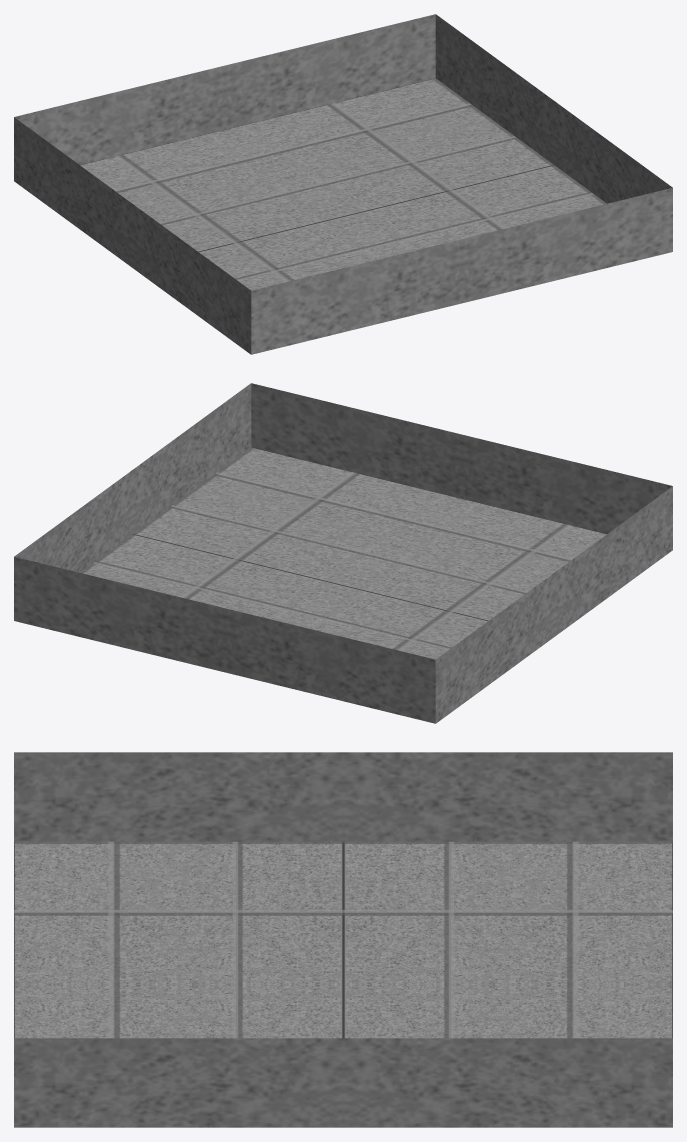
The model's file is diban.FBX.
3 renders of one model, top to bottom at view 1: azimuth 30°, elevation 25°; view 2: azimuth 150°, elevation 25°; view 3: azimuth 270°, elevation 25°, orthographic. The views are drawn at different scales.
Visible parts, largest first — view 1: Box004; view 2: Box004; view 3: Box004.
Boxes of the visible parts, bbox=[...] form: Box004: bbox=[14, 14, 672, 354]; Box004: bbox=[14, 383, 672, 723]; Box004: bbox=[14, 752, 672, 1127].
Bounding box in the file's own units: 156 × 22.66 × 152.
